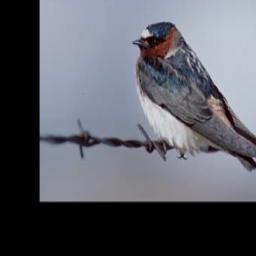Swallow: (134, 21, 256, 179)
